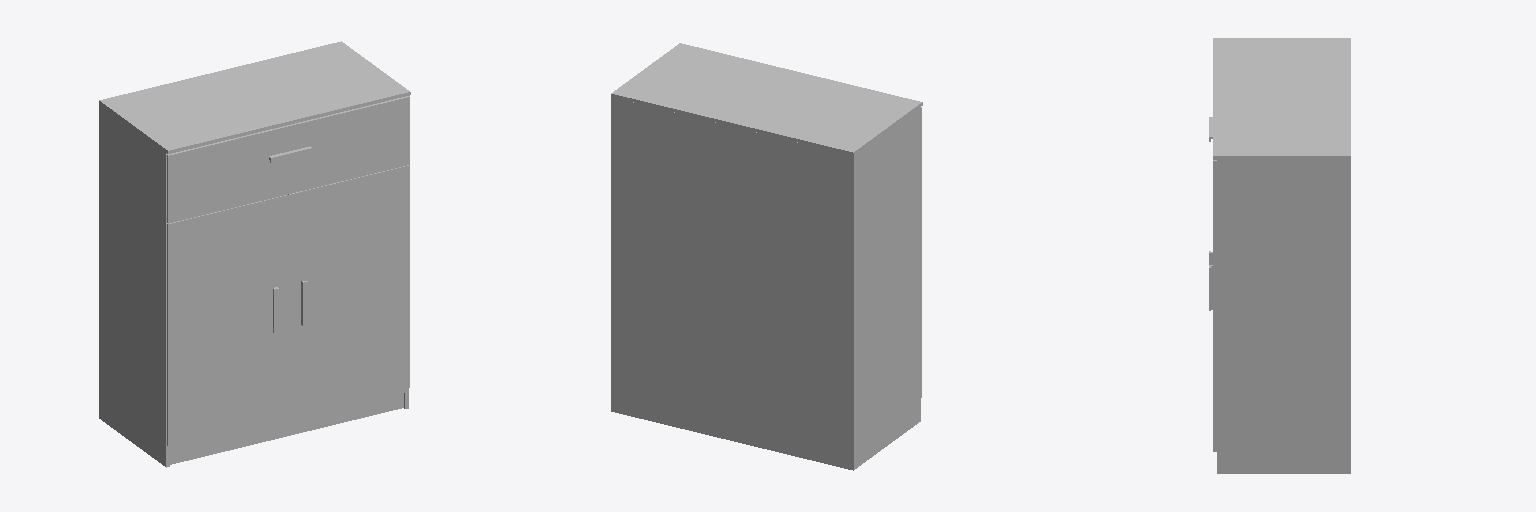
File: KABDRUPx2x1.obj
3 renders of one model, left to right at view 1: azimuth 30°, elevation 25°; view 2: azimuth 150°, elevation 25°; view 3: azimuth 270°, elevation 25°, orthographic.
Visible parts, largest first — view 1: Cube.007_Cube.009, Cube_Cube.001, Cube.011_Cube.015; view 2: Cube_Cube.001; view 3: Cube_Cube.001, Cube.007_Cube.009.
Boxes of the visible parts, box(x1,y1,x2,y2) form: Cube.007_Cube.009: box(167, 96, 409, 445); Cube_Cube.001: box(99, 41, 410, 467); Cube.011_Cube.015: box(269, 146, 311, 332); Cube_Cube.001: box(611, 43, 922, 470); Cube_Cube.001: box(1213, 38, 1350, 473); Cube.007_Cube.009: box(1213, 160, 1216, 451).
Bounding box in the file's own units: 1.42 × 1.78 × 0.724.